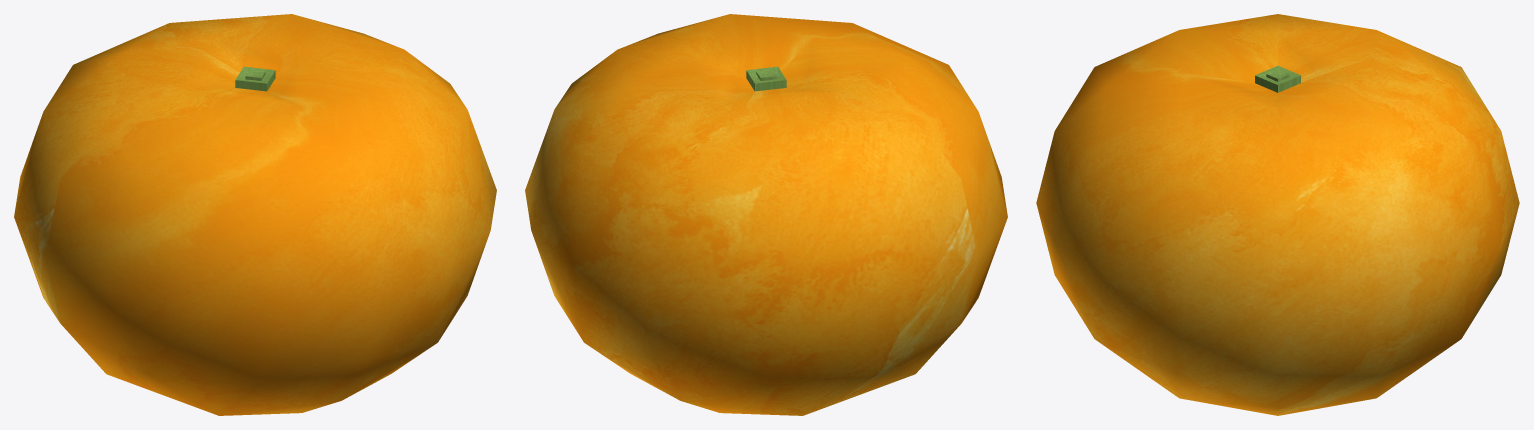
The model's file is Mikan.fbx.
3 renders of one model, left to right at view 1: azimuth 30°, elevation 25°; view 2: azimuth 150°, elevation 25°; view 3: azimuth 270°, elevation 25°, orthographic.
Parts seen in each view (by area): view 1: GeoSphere001; view 2: GeoSphere001; view 3: GeoSphere001.
Part boxes in pixels (<box>): GeoSphere001: <box>14,14,496,415</box>; GeoSphere001: <box>525,14,1007,415</box>; GeoSphere001: <box>1036,14,1519,415</box>.
Size of the model in its own units: 60 by 43.76 by 60.
Materials: 2 (2 with a texture image).
